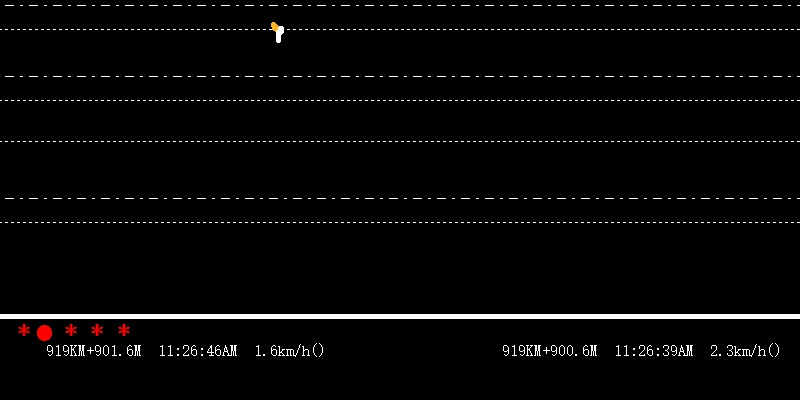circle: (33, 320, 56, 347)
face_1: (275, 19, 284, 46)
star: (15, 320, 33, 346), (88, 320, 106, 340), (62, 320, 80, 340), (116, 320, 130, 340)
